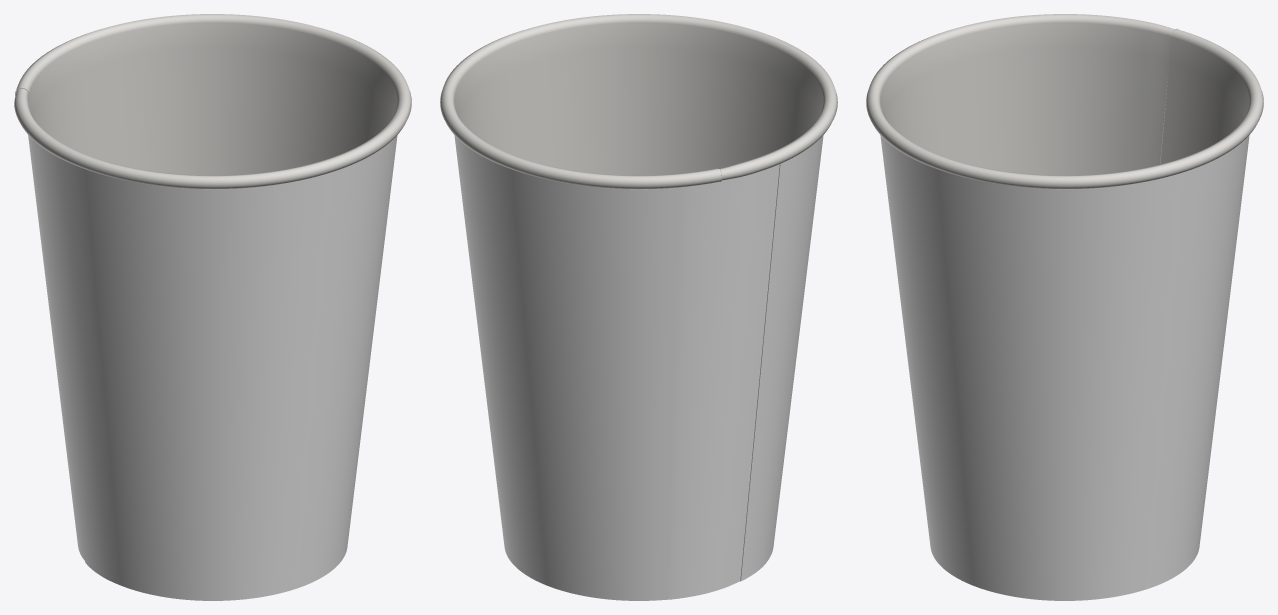
3 views of the same model, side by side, from view 1: azimuth 30°, elevation 25°; view 2: azimuth 150°, elevation 25°; view 3: azimuth 270°, elevation 25° (orthographic).
Visible parts, largest first — view 1: Cup_Wrap, Cup_Wall; view 2: Cup_Wrap, Cup_Wall; view 3: Cup_Wrap, Cup_Wall.
Part boxes in pixels (x1=…): Cup_Wrap: x1=28, y1=135, x2=397, y2=600; Cup_Wall: x1=14, y1=14, x2=411, y2=189; Cup_Wrap: x1=454, y1=135, x2=823, y2=600; Cup_Wall: x1=440, y1=14, x2=837, y2=599; Cup_Wrap: x1=880, y1=135, x2=1249, y2=600; Cup_Wall: x1=866, y1=14, x2=1263, y2=189.
Size of the model in its own units: 0.0894 by 0.1117 by 0.0894.
3 materials, 1 textured.
